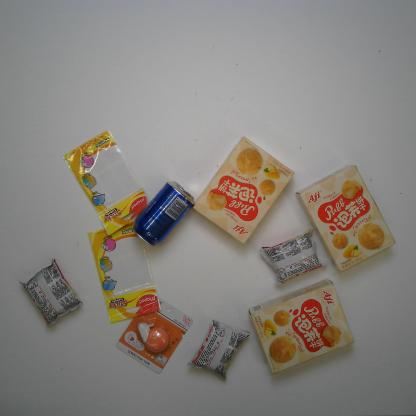Dessert: (243, 280, 371, 376), (192, 132, 293, 248), (297, 163, 400, 273), (20, 260, 84, 338), (188, 318, 253, 382), (261, 226, 327, 286)
Drink: (137, 175, 206, 249)
Stationery: (62, 129, 154, 233), (82, 221, 171, 324), (115, 294, 194, 375)
